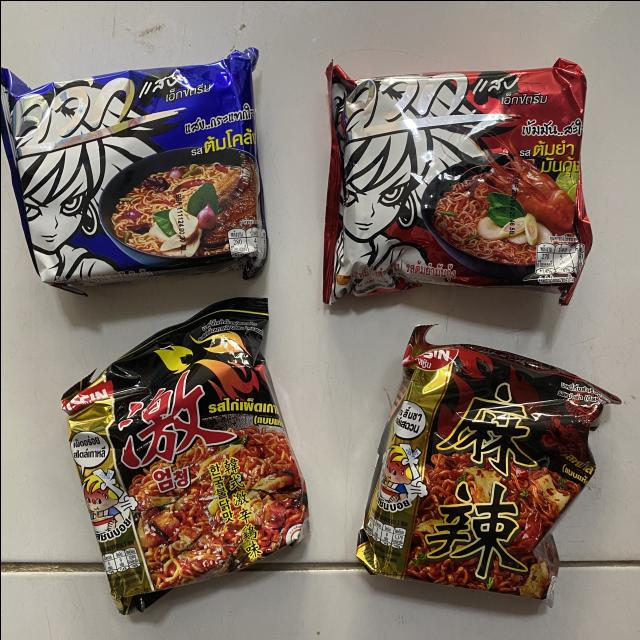plastik: (60, 297, 308, 612), (356, 326, 618, 602), (322, 57, 592, 304), (0, 47, 266, 293)
